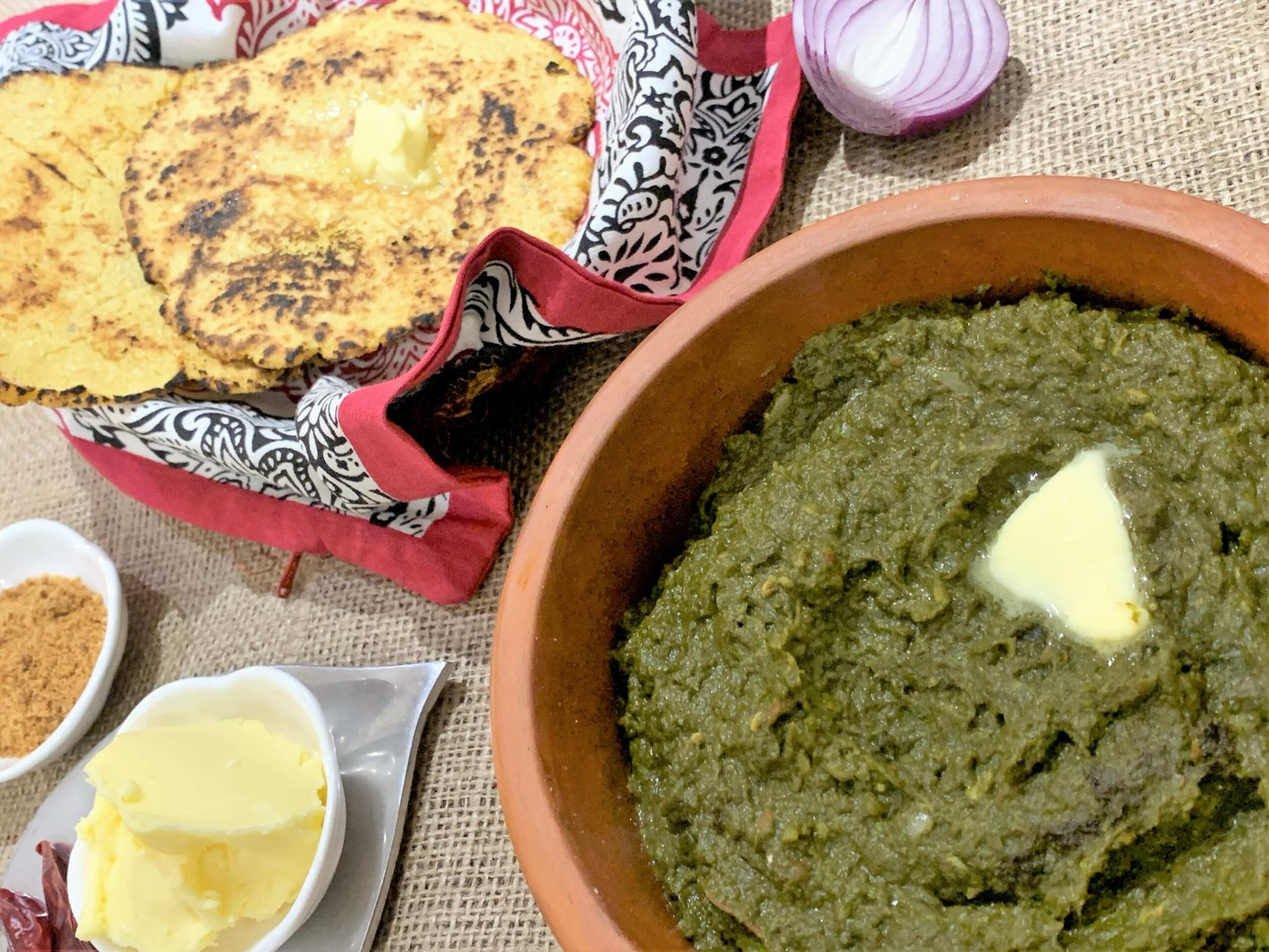saag: (625, 314, 1269, 952)
